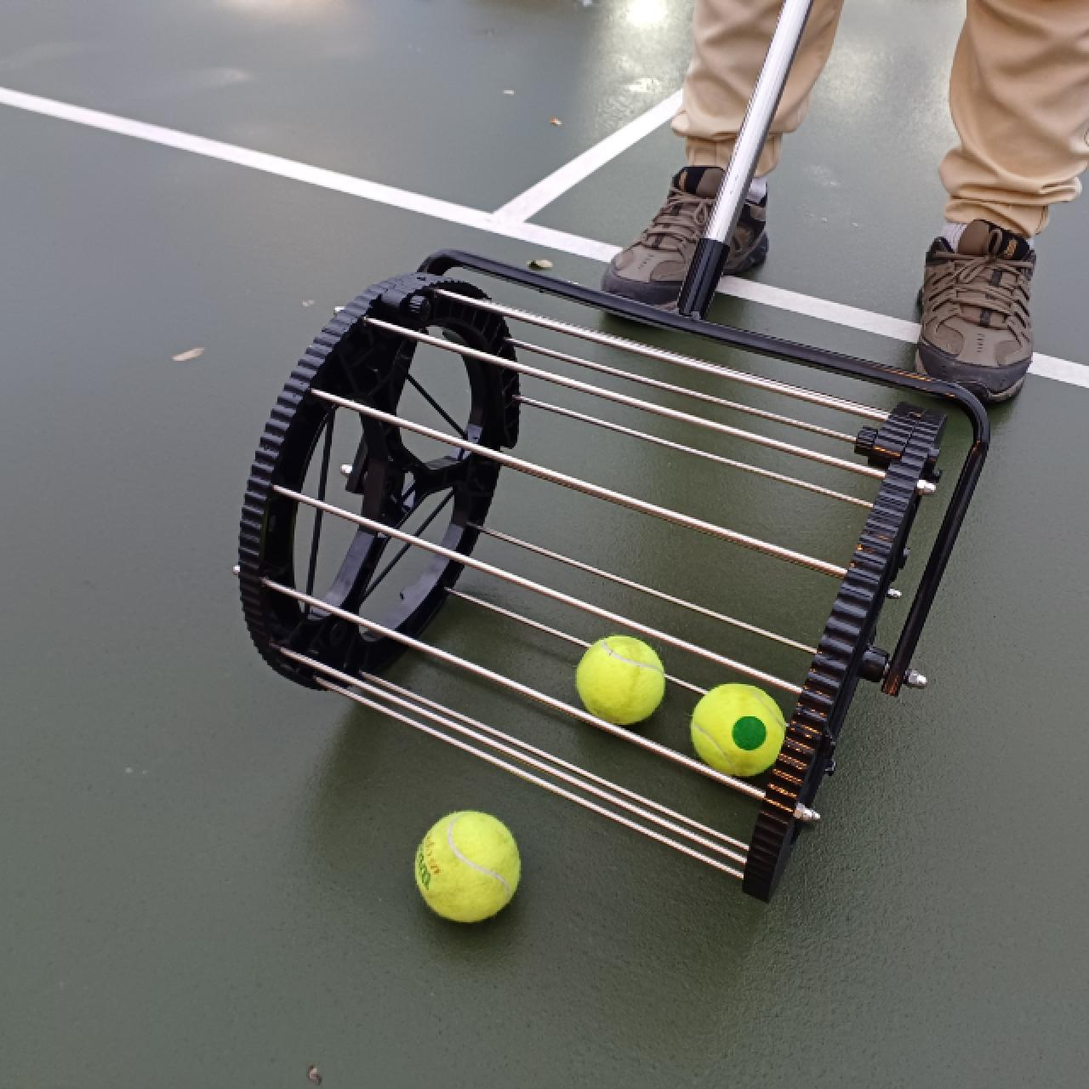tennis-ball: (411, 807, 523, 925), (688, 681, 788, 778), (577, 631, 667, 727)
